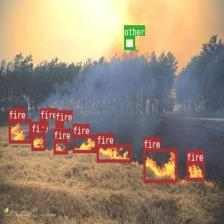fire: (143, 148, 177, 182), (96, 144, 131, 162), (8, 118, 30, 142), (72, 135, 97, 152), (186, 161, 204, 180), (31, 132, 45, 150), (53, 139, 67, 154), (40, 119, 46, 130), (55, 121, 63, 127)
